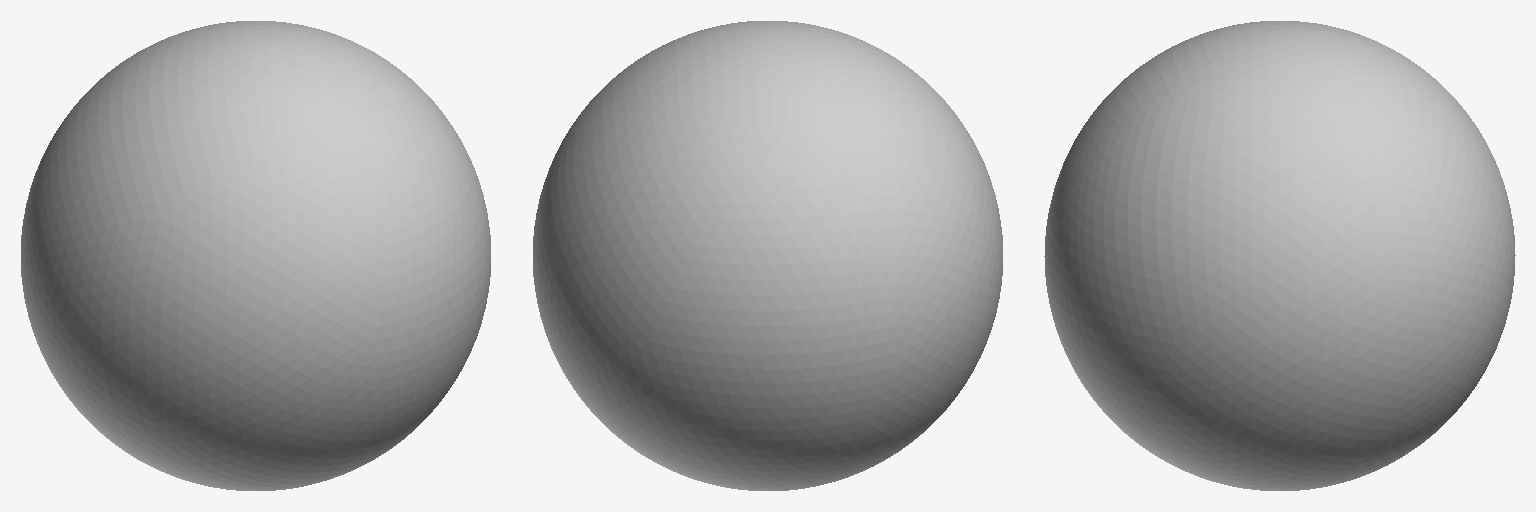
File: Locomotive.obj
3 views of the same model, side by side, from view 1: azimuth 30°, elevation 25°; view 2: azimuth 150°, elevation 25°; view 3: azimuth 270°, elevation 25° (orthographic).
Parts seen in each view (by area): view 1: Object.1; view 2: Object.1; view 3: Object.1.
Boxes of the visible parts, <box> form: Object.1: <box>21,21,490,490</box>; Object.1: <box>533,21,1002,490</box>; Object.1: <box>1044,21,1515,490</box>.
Size of the model in its own units: 40 by 40 by 40.